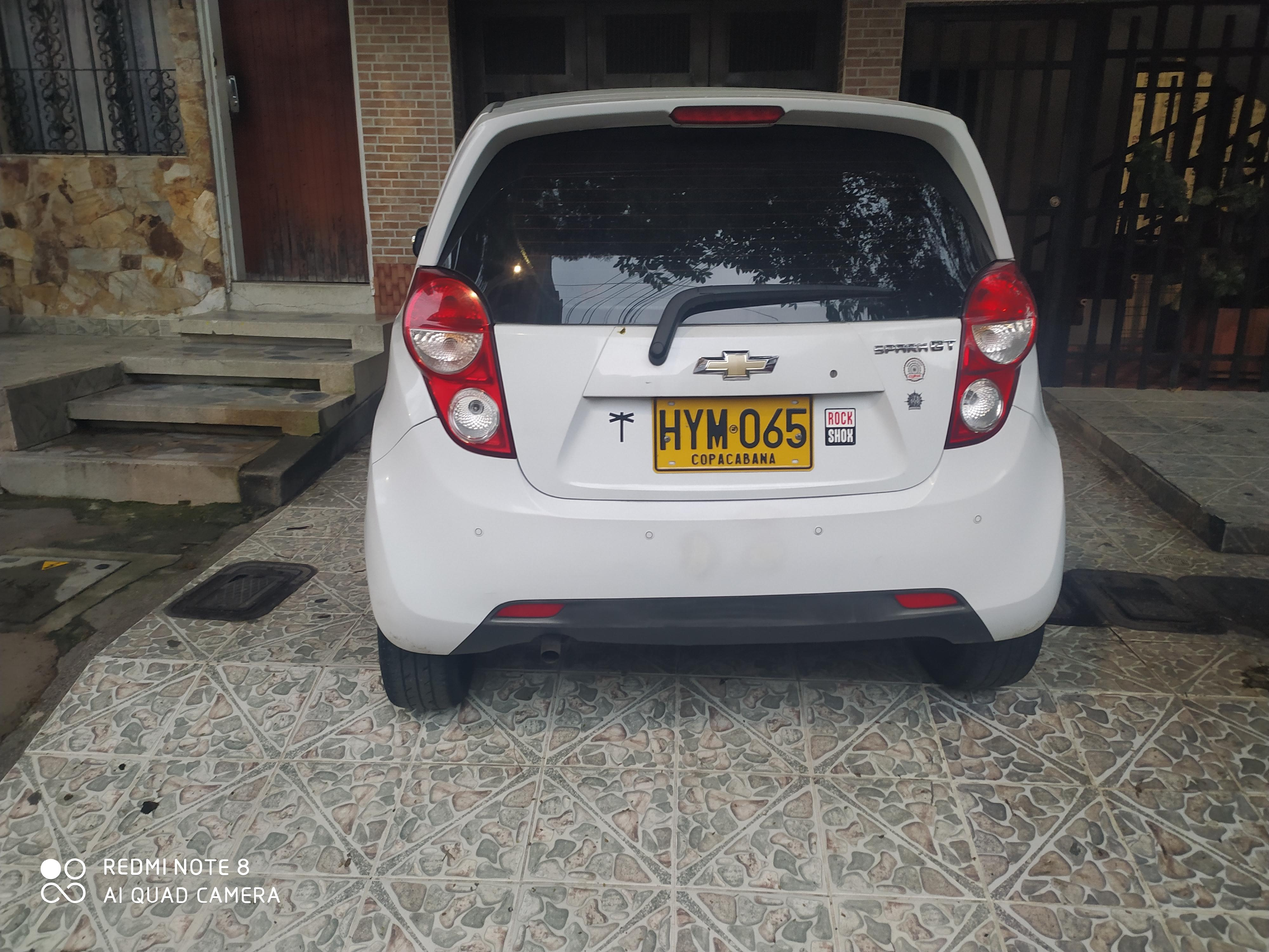placa: (644, 389, 820, 479)
